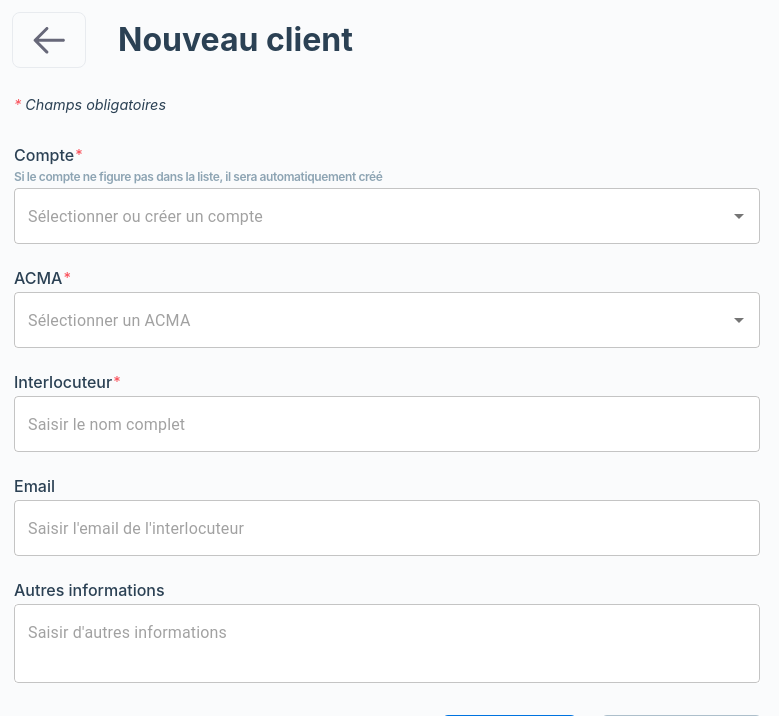
the client creation page › should display two accounts inside the combobox
Click the dropdown labelled "Compte" at x=372, y=216, box [23,197,721,235]
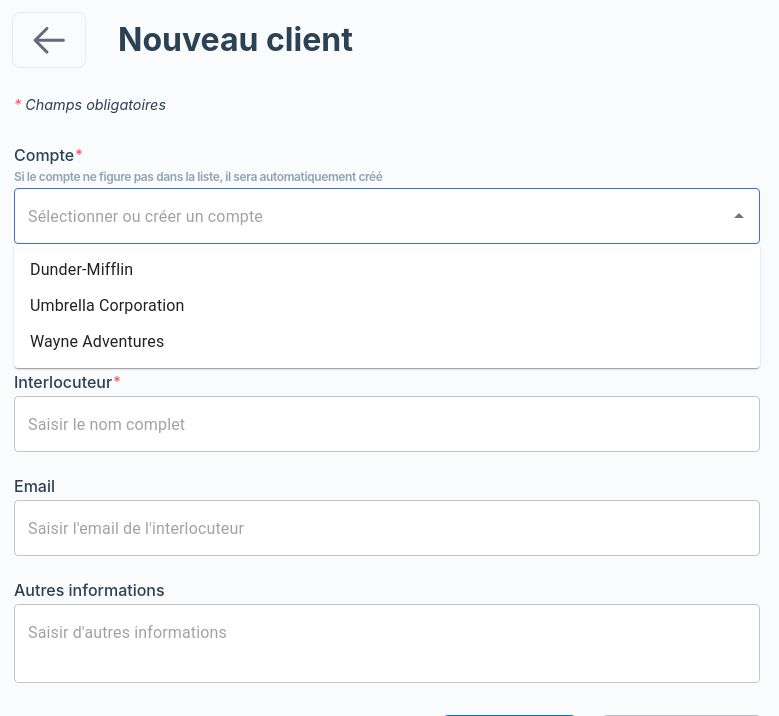
Result: the option "Dunder-Mifflin" is shown at [30,260,133,279]
Result: the option "Umbrella Corporation" is shown at [30,296,185,315]
